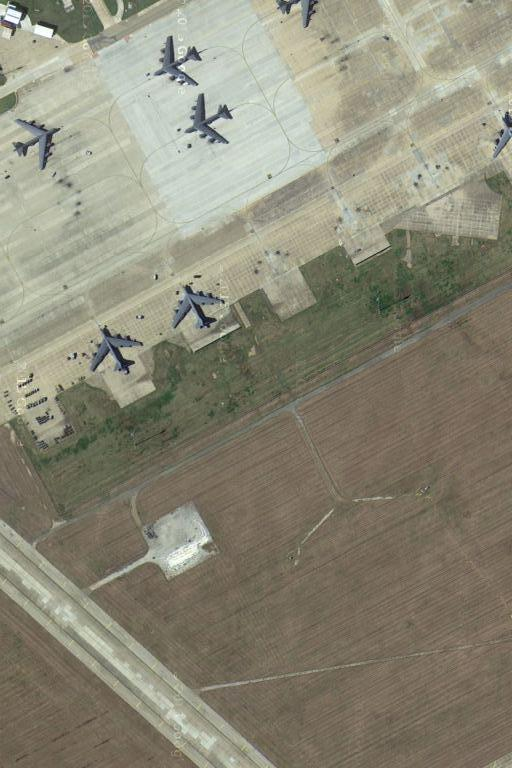B-52: (10, 110, 67, 174), (151, 31, 207, 92), (87, 321, 146, 377), (181, 92, 235, 152), (171, 280, 227, 334)
